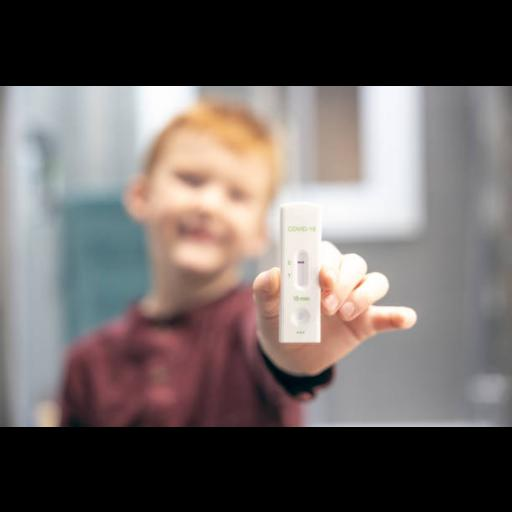Neg: (281, 204, 321, 340)
